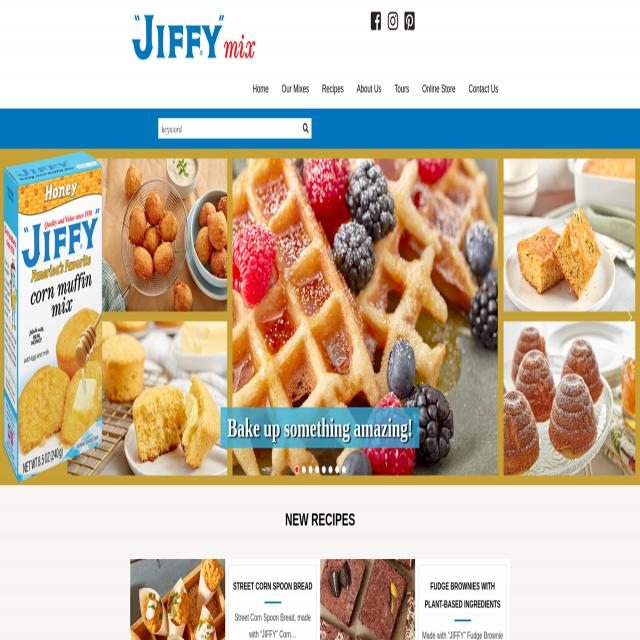button: (130, 14, 257, 63), (625, 156, 635, 478), (422, 69, 456, 109), (469, 69, 498, 109), (252, 69, 268, 109), (404, 9, 415, 33), (300, 118, 312, 139), (371, 9, 381, 33), (388, 9, 398, 33), (5, 308, 15, 326)
field: (158, 118, 312, 139)
